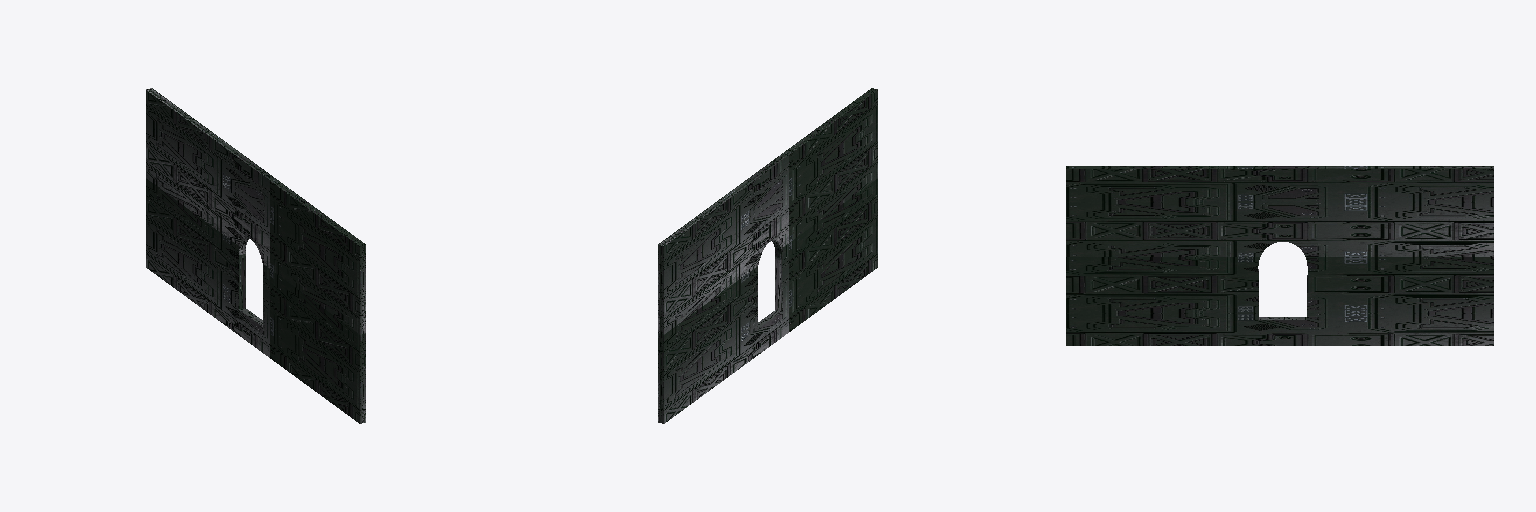
3 views of the same model, side by side, from view 1: azimuth 30°, elevation 25°; view 2: azimuth 150°, elevation 25°; view 3: azimuth 270°, elevation 25° (orthographic).
Parts seen in each view (by area): view 1: WallDown_Cube.028; view 2: WallDown_Cube.028; view 3: WallDown_Cube.028.
Boxes of the visible parts, box(x1,y1,x2,y2) form: WallDown_Cube.028: box(146, 88, 365, 423); WallDown_Cube.028: box(658, 88, 877, 423); WallDown_Cube.028: box(1066, 166, 1493, 345).
Size of the model in its own units: 0.6813 by 17.42 by 38.08.
1 materials, 1 textured.